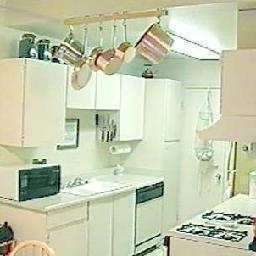Electrodomestico: (165, 214, 252, 255), (132, 182, 161, 253)
Lavaplatos: (59, 180, 129, 199)
